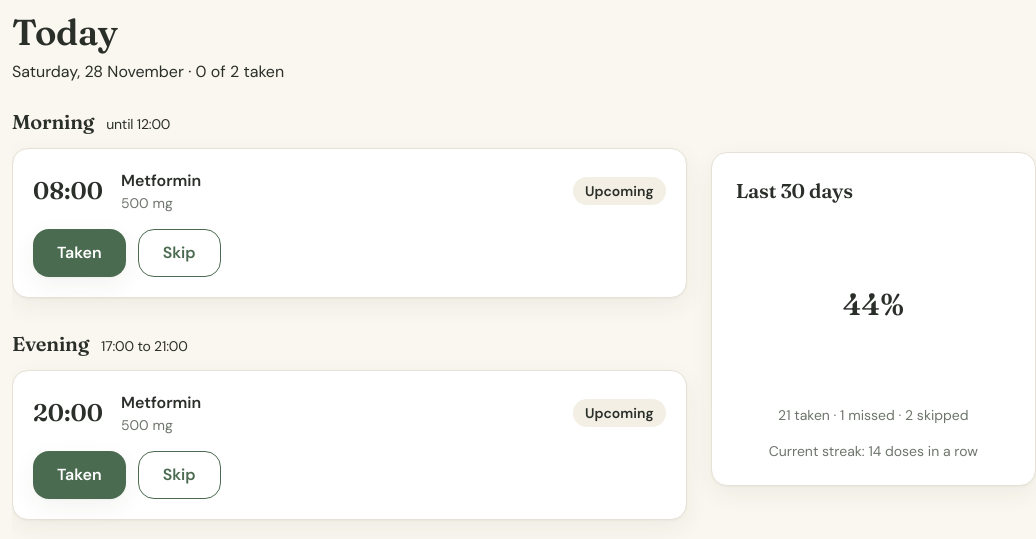
Today page: Taken and Skip › disables a dose's buttons while its request is in flight
Click the button "Skip" below "08:00" at [179, 253], box [138, 229, 221, 277]
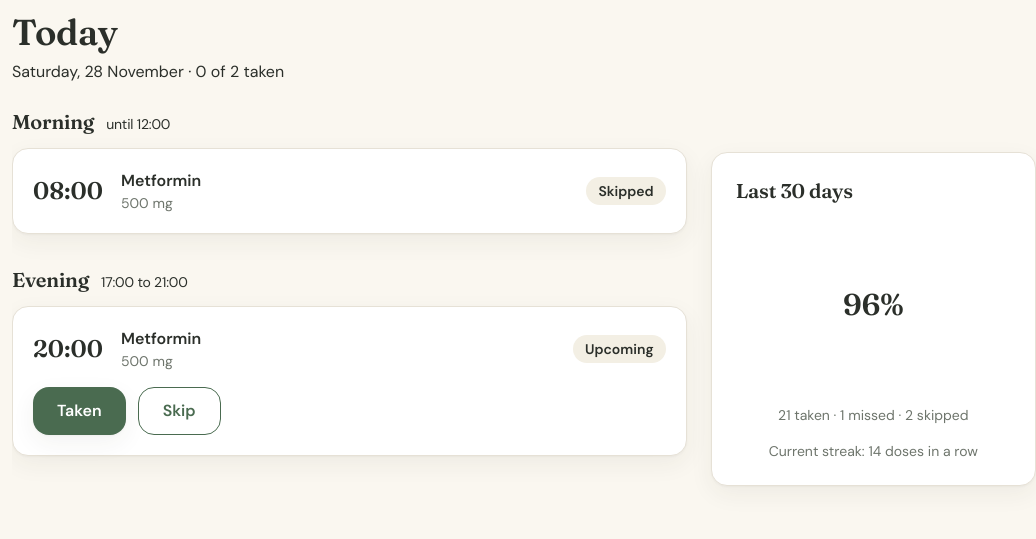
expect the text "08:00" has attribute aria-busy="true": met, box [12, 148, 687, 234]
